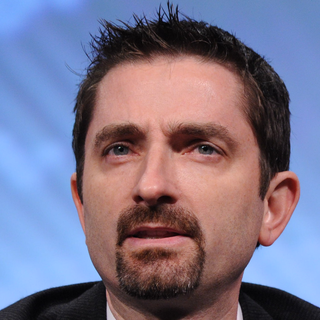eye: (176, 140, 235, 169), (95, 141, 144, 167)
